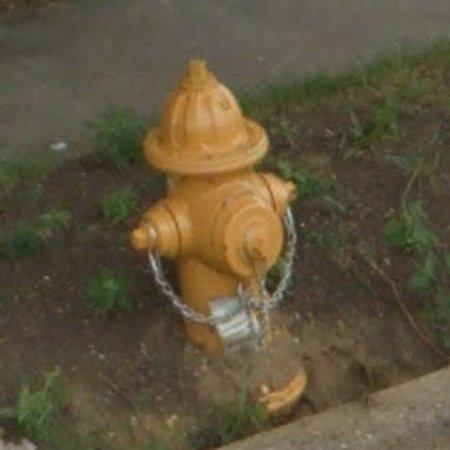a fire hydrant: (130, 59, 295, 316)
